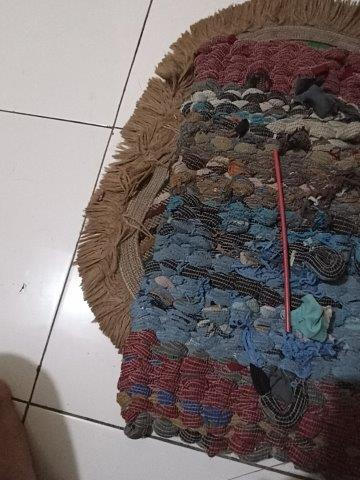sedotan: (274, 151, 292, 332)
